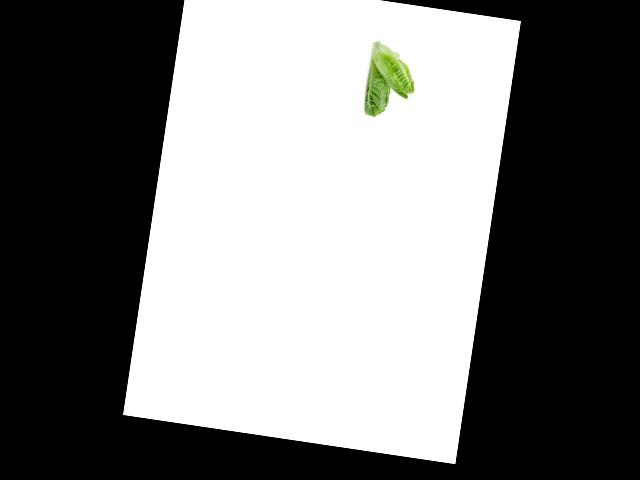lettuce: (357, 55, 396, 123)
